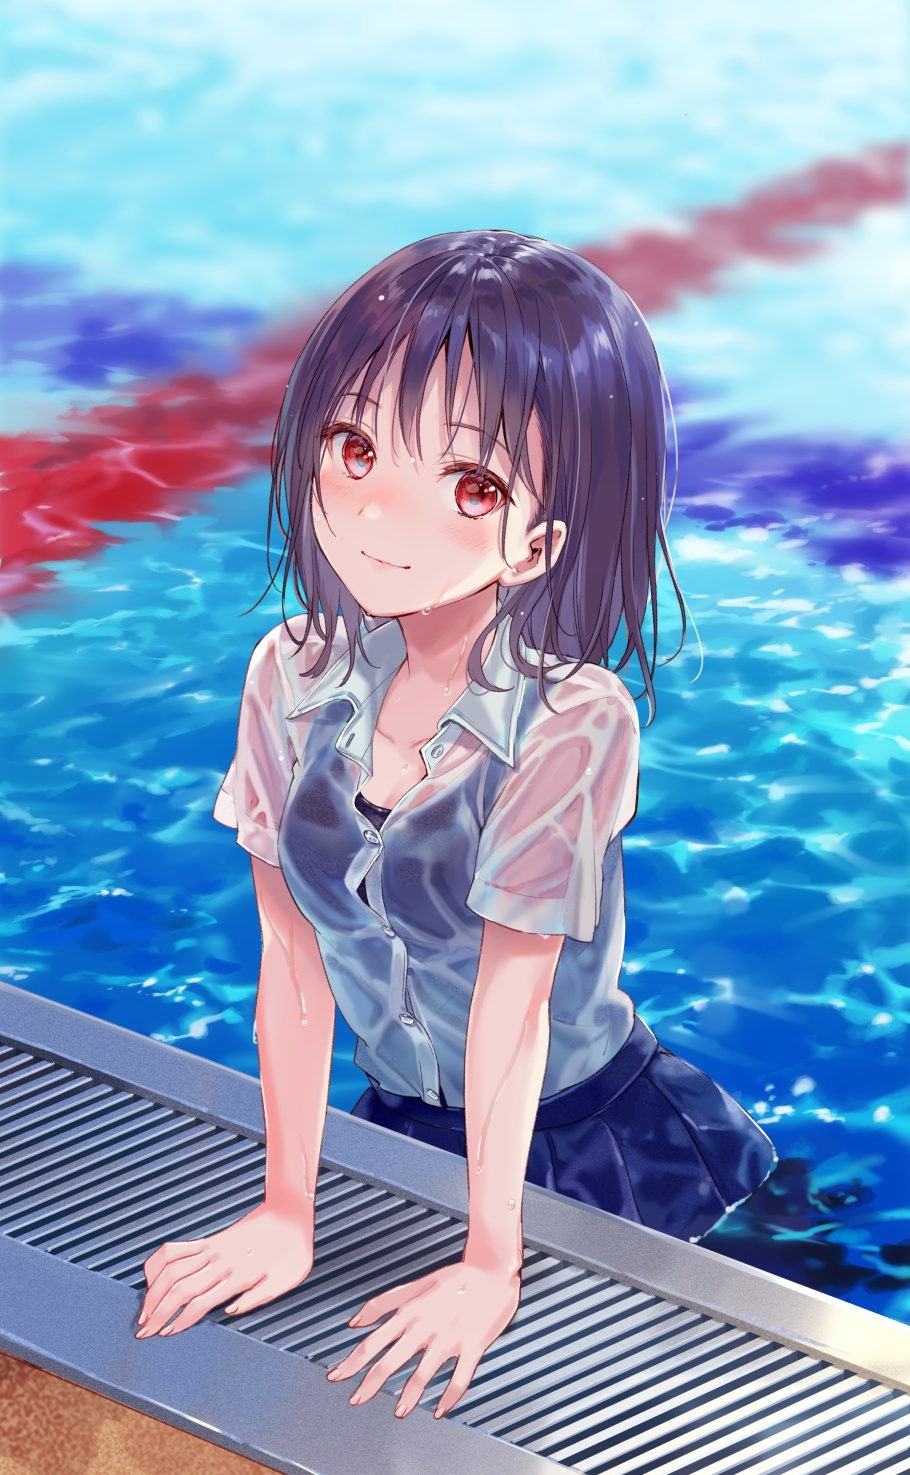纸片人正脸: (273, 221, 668, 626)
